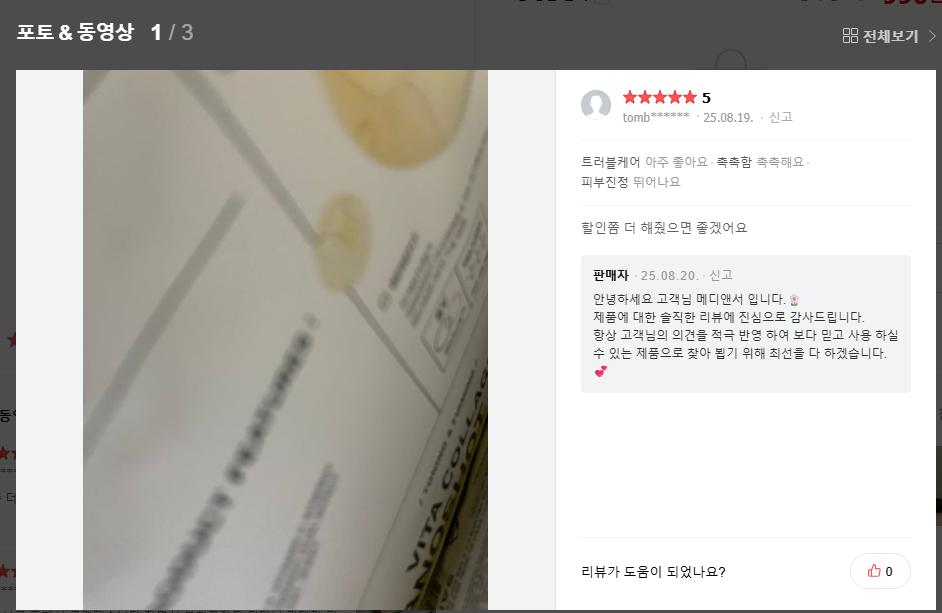button: (840, 21, 942, 54), (848, 554, 912, 589)
